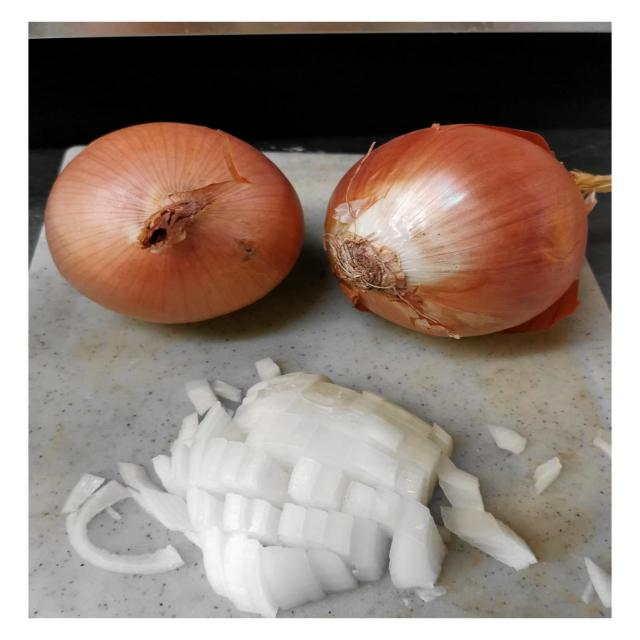onion: (74, 349, 568, 629), (313, 107, 592, 342), (32, 112, 306, 329)
